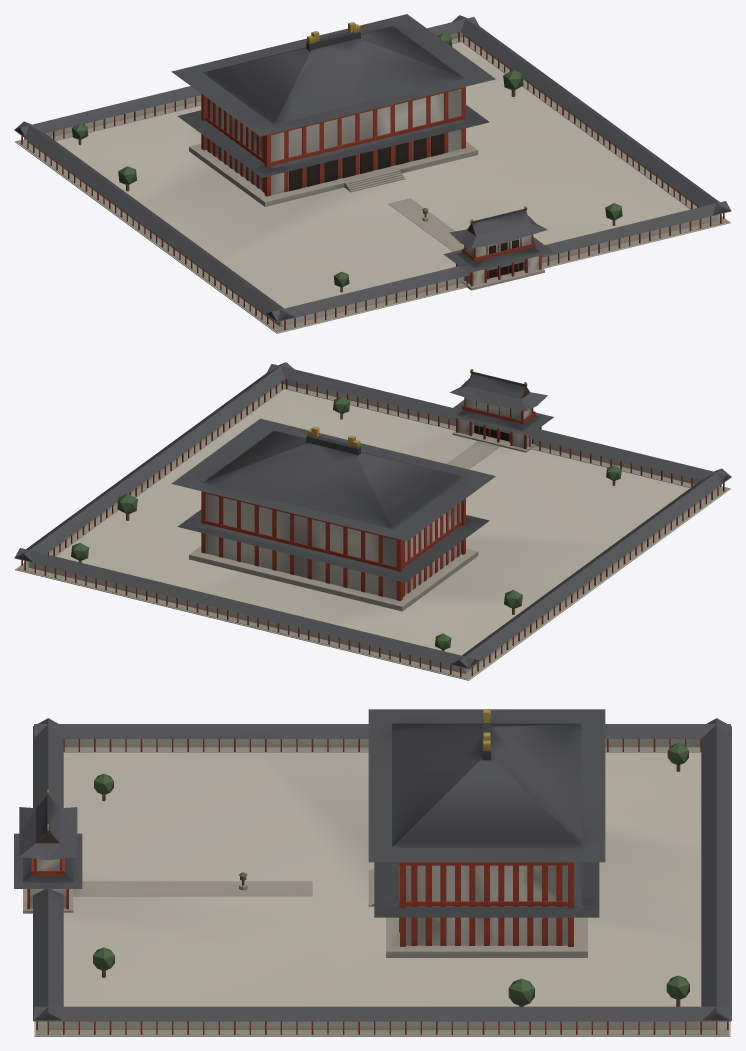
Rendered from daibutsuden.glb.
3 views of the same model, one above another, from view 1: azimuth 30°, elevation 25°; view 2: azimuth 150°, elevation 25°; view 3: azimuth 270°, elevation 25° (orthographic). The views are drawn at different scales.
Parts seen in each view (by area): view 1: p0_grounds, p1_halls, p2_roofs; view 2: p0_grounds, p1_halls, p2_roofs; view 3: p0_grounds, p1_halls, p2_roofs.
Boxes of the visible parts, box(x1,y1,x2,y2) form: p0_grounds: box(15, 42, 730, 333); p1_halls: box(14, 15, 731, 332); p2_roofs: box(72, 14, 622, 292); p0_grounds: box(15, 389, 730, 680); p1_halls: box(14, 362, 731, 679); p2_roofs: box(71, 369, 621, 651); p0_grounds: box(34, 752, 730, 1036); p1_halls: box(23, 718, 731, 1035); p2_roofs: box(14, 709, 689, 1006).
Bounding box in the file's own units: 201 × 53.01 × 206.
